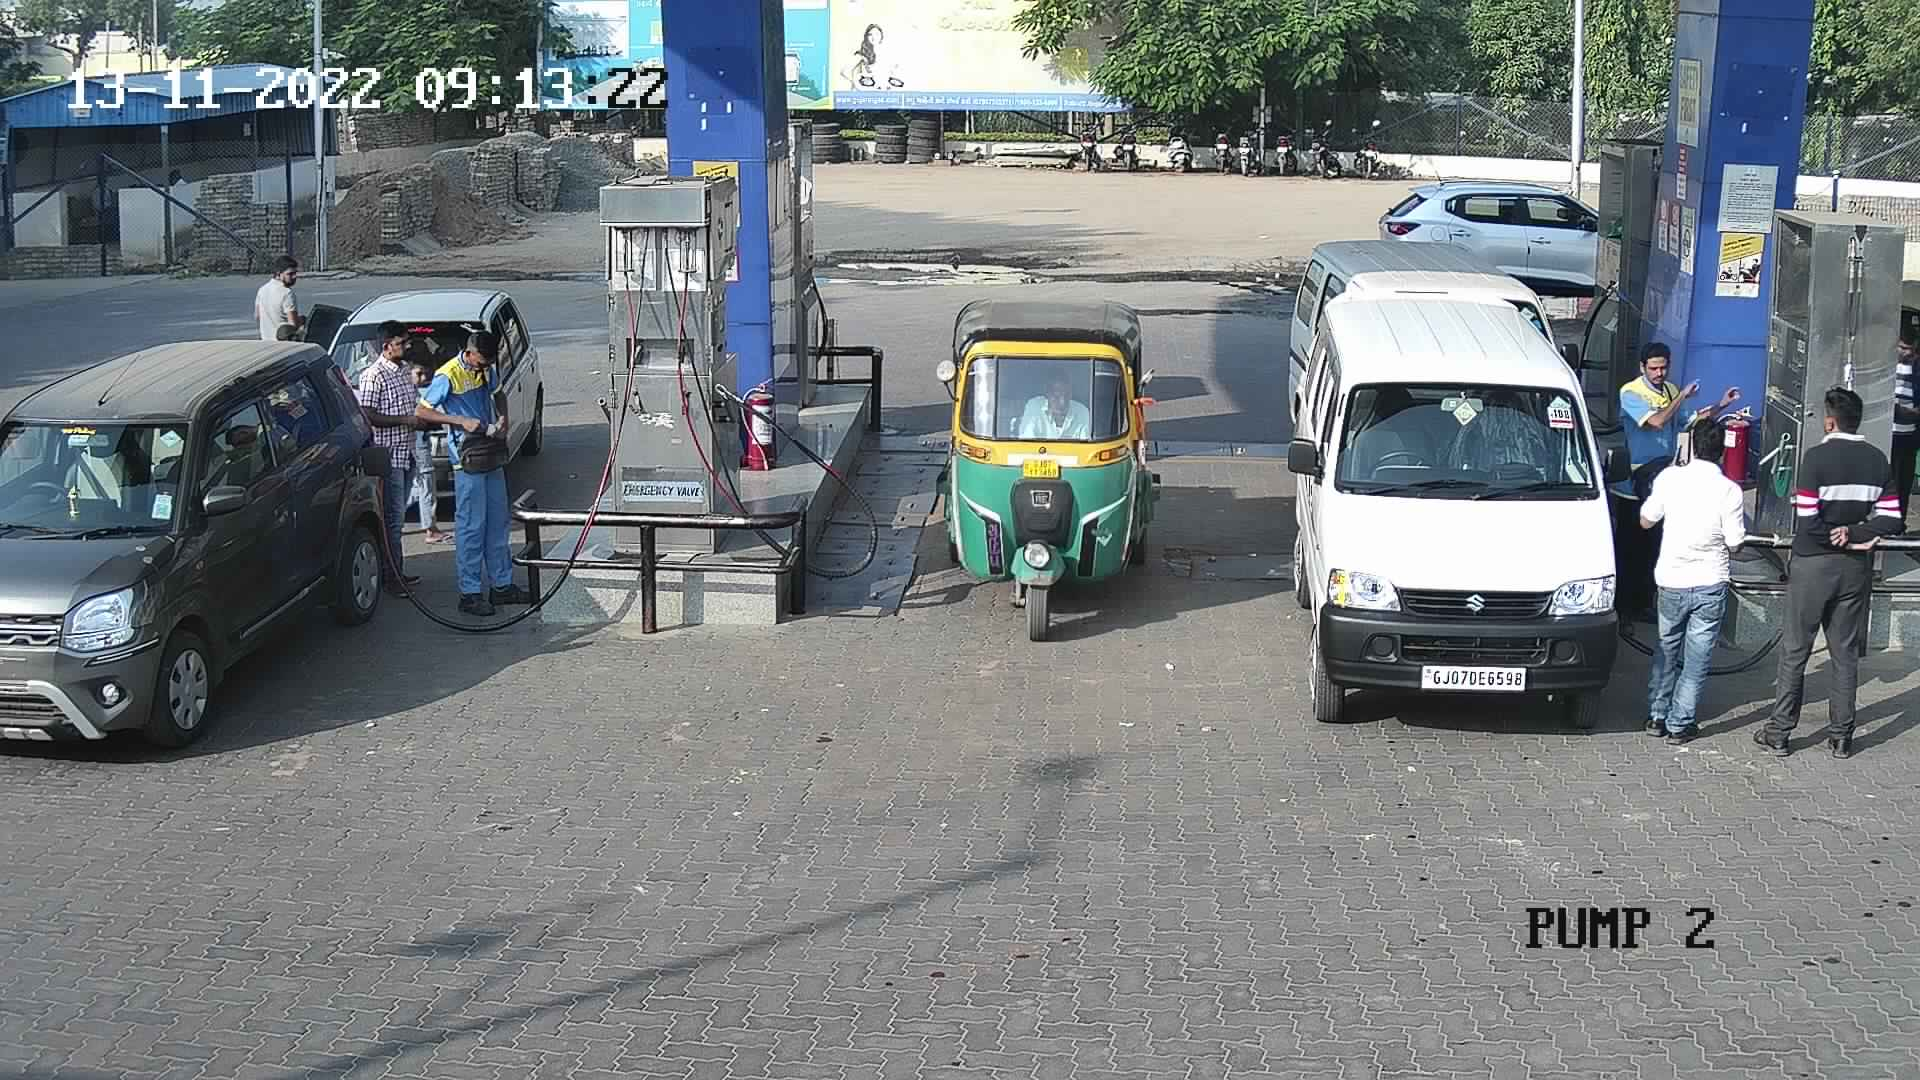Auto: (924, 280, 1166, 651)
Bike: (1153, 105, 1200, 170), (1352, 116, 1393, 185), (1302, 117, 1344, 182), (1269, 116, 1305, 182), (1211, 113, 1247, 177), (1233, 113, 1271, 173), (1072, 109, 1106, 166), (1110, 117, 1142, 171)
Car: (1, 327, 389, 757), (1283, 284, 1640, 731), (1269, 227, 1590, 436), (289, 268, 554, 517), (1364, 149, 1640, 367)
Others: (411, 324, 539, 612), (1610, 339, 1696, 659)
